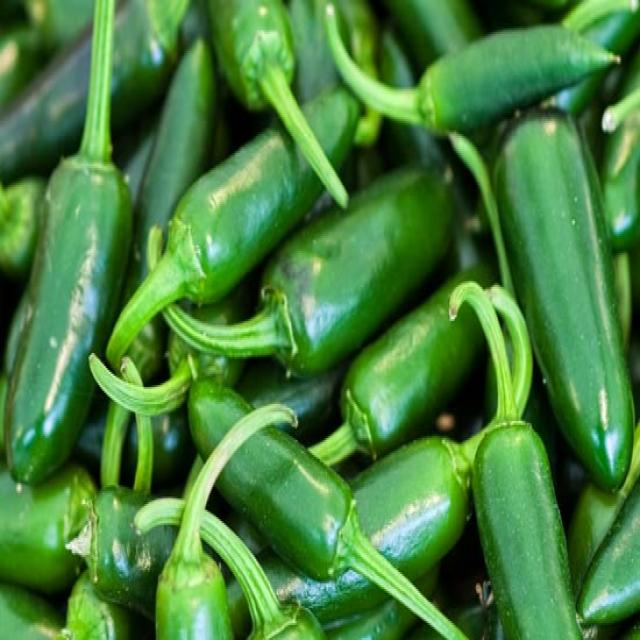aji: (15, 21, 640, 638), (152, 91, 406, 238), (29, 102, 115, 486), (257, 178, 471, 324)
